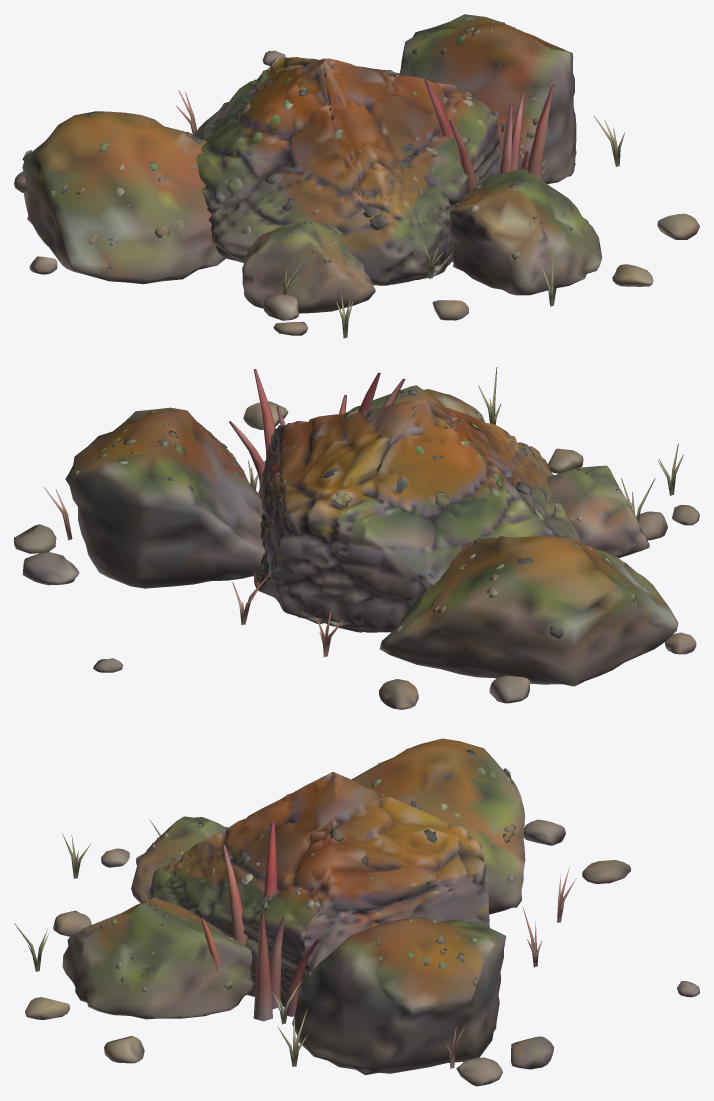
The model's file is tas_grup.glb.
The picture shows the model from 3 angles, top to bottom: view 1: azimuth 30°, elevation 25°; view 2: azimuth 150°, elevation 25°; view 3: azimuth 270°, elevation 25°; orthographic projection. The views are drawn at different scales.
Parts seen in each view (by area): view 1: tas_grup_LOD0; view 2: tas_grup_LOD0; view 3: tas_grup_LOD0.
Part boxes in pixels (x1=…): tas_grup_LOD0: x1=14, y1=14, x2=699, y2=338; tas_grup_LOD0: x1=14, y1=367, x2=699, y2=709; tas_grup_LOD0: x1=14, y1=738, x2=699, y2=1086.
Size of what is drawn, in the model's own units: 4.74 by 1.41 by 4.73.
